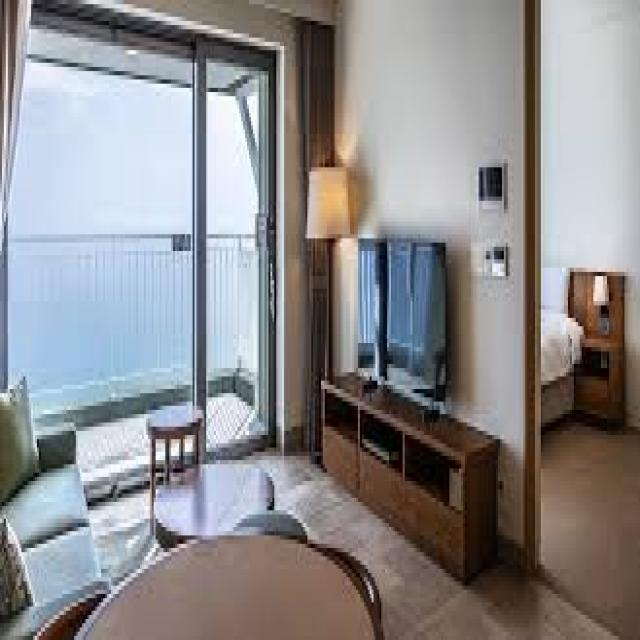Sofa: (3, 387, 101, 640)
Table: (140, 393, 203, 493)
tv: (356, 235, 449, 392)
window: (5, 0, 276, 430)
